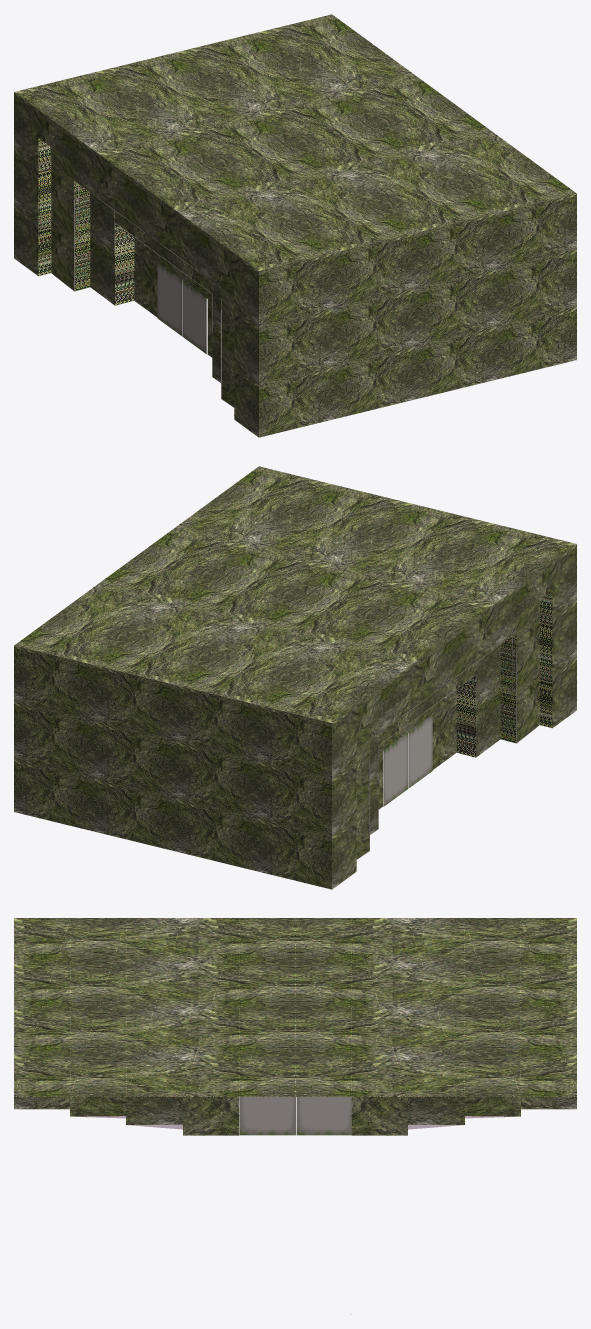
File: Bunker.FBX
3 renders of one model, top to bottom at view 1: azimuth 30°, elevation 25°; view 2: azimuth 150°, elevation 25°; view 3: azimuth 270°, elevation 25°, orthographic. The views are drawn at different scales.
Visible parts, largest first — view 1: Box001, Plane003; view 2: Box001, Plane003; view 3: Box001, Plane003.
Boxes of the visible parts, x1=… form: Box001: x1=14, y1=14, x2=576, y2=437; Plane003: x1=157, y1=262, x2=206, y2=353; Box001: x1=14, y1=466, x2=576, y2=889; Plane003: x1=383, y1=715, x2=432, y2=806; Box001: x1=14, y1=918, x2=576, y2=1135; Plane003: x1=239, y1=1096, x2=351, y2=1135.
Size of the model in its own units: 136 by 59.06 by 157.
